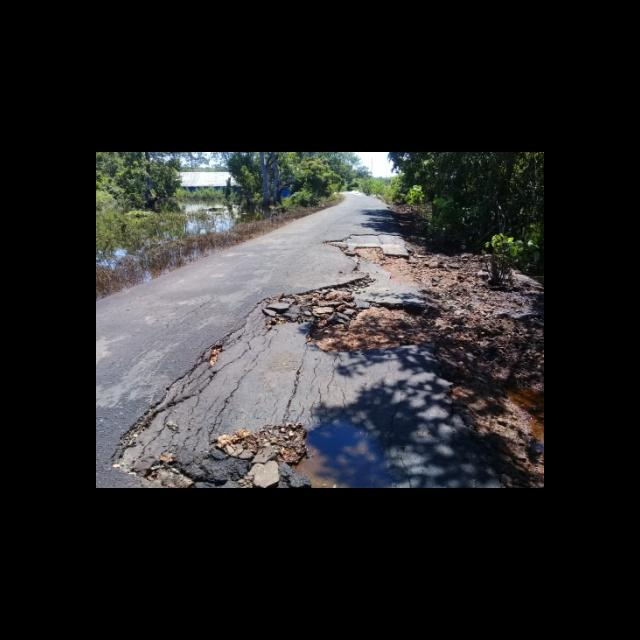lubang_kecil: (266, 284, 432, 357), (207, 419, 320, 468), (352, 241, 406, 284)
retak_memanjang: (171, 345, 264, 441), (288, 360, 340, 426)
